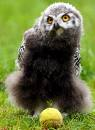tennis ball: (37, 107, 66, 129)
